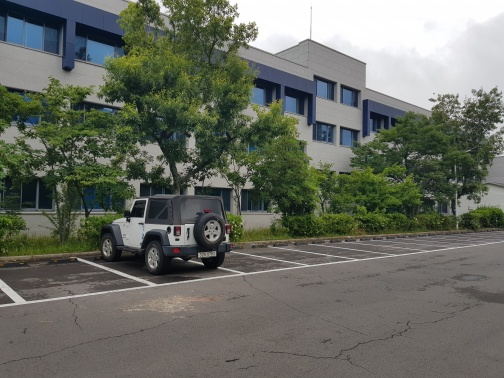College of Social Sciences: (39, 22, 501, 230)
